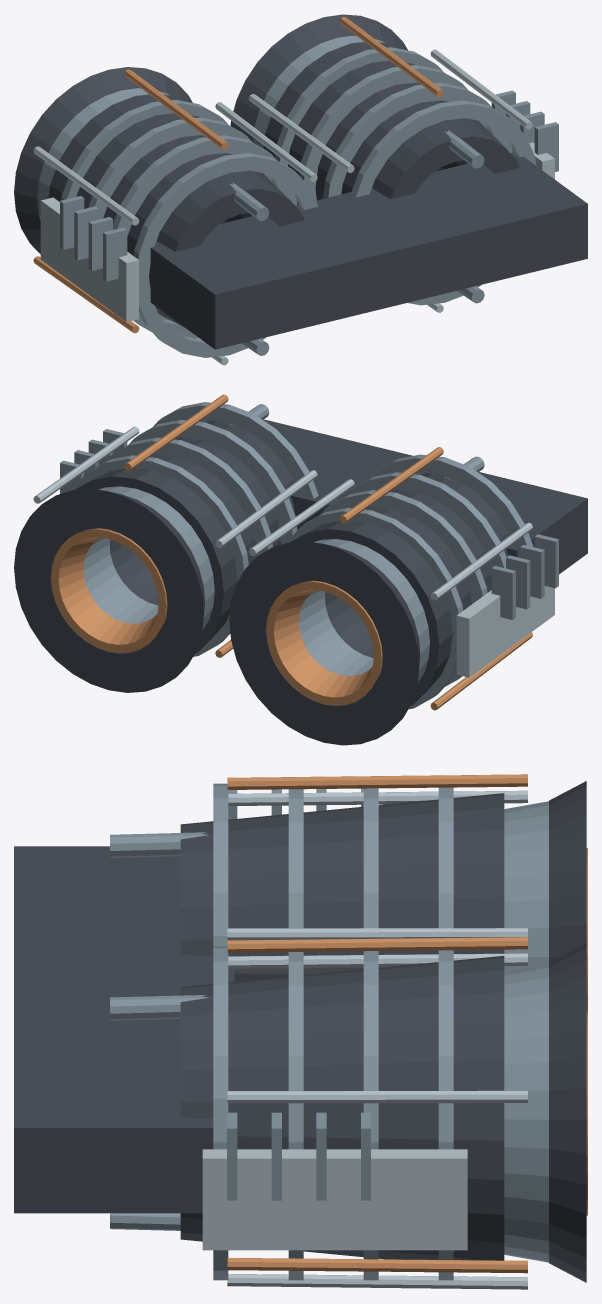
File: engine_titan_v2.glb
3 views of the same model, one above another, from view 1: azimuth 30°, elevation 25°; view 2: azimuth 150°, elevation 25°; view 3: azimuth 270°, elevation 25° (orthographic). The views are drawn at different scales.
Visible parts, largest first — view 1: ENGINE_MODULAR_CASSETTE_CRADLE, ENGINE_1_STRUCTURAL_CHAMBER, ENGINE_-1_STRUCTURAL_CHAMBER, ENGINE_-1_SERVICE_COLLAR_0, ENGINE_-1_RECESSED_BELL, ENGINE_1_SERVICE_COLLAR_0, ENGINE_1_RECESSED_BELL, ENGINE_-1_SPLIT_SIDE_ARMOR, ENGINE_1_SERVICE_COLLAR_1, ENGINE_-1_SERVICE_COLLAR_1, ENGINE_1_SERVICE_COLLAR_2, ENGINE_-1_SERVICE_COLLAR_2 (+18 smaller); view 2: ENGINE_1_RECESSED_BELL, ENGINE_-1_RECESSED_BELL, ENGINE_1_STRUCTURAL_CHAMBER, ENGINE_-1_STRUCTURAL_CHAMBER, ENGINE_MODULAR_CASSETTE_CRADLE, ENGINE_1_HEATED_INNER_LIP, ENGINE_-1_HEATED_INNER_LIP, ENGINE_1_THROAT, ENGINE_-1_THROAT, ENGINE_-1_SPLIT_SIDE_ARMOR, ENGINE_-1_SERVICE_COLLAR_3, ENGINE_1_SERVICE_COLLAR_1 (+17 smaller); view 3: ENGINE_MODULAR_CASSETTE_CRADLE, ENGINE_1_STRUCTURAL_CHAMBER, ENGINE_-1_STRUCTURAL_CHAMBER, ENGINE_1_SPLIT_SIDE_ARMOR, ENGINE_1_THROAT, ENGINE_1_RECESSED_BELL, ENGINE_-1_THROAT, ENGINE_-1_RECESSED_BELL, ENGINE_1_EXTERNAL_HEAT_CHANNEL_5, ENGINE_1_EXTERNAL_HEAT_CHANNEL_1, ENGINE_-1_EXTERNAL_HEAT_CHANNEL_1, ENGINE_1_EXTERNAL_HEAT_CHANNEL_0 (+19 smaller).
Boxes of the visible parts, x1,y1,x2,y2 form: ENGINE_MODULAR_CASSETTE_CRADLE: (149,152,587,349); ENGINE_1_STRUCTURAL_CHAMBER: (263,42,519,204); ENGINE_-1_STRUCTURAL_CHAMBER: (48,94,304,327); ENGINE_-1_SERVICE_COLLAR_0: (133,153,318,357); ENGINE_-1_RECESSED_BELL: (14,67,192,253); ENGINE_1_SERVICE_COLLAR_0: (351,100,536,305); ENGINE_1_RECESSED_BELL: (230,14,407,141); ENGINE_-1_SPLIT_SIDE_ARMOR: (40,197,138,321); ENGINE_1_SERVICE_COLLAR_1: (323,83,512,198); ENGINE_-1_SERVICE_COLLAR_1: (113,135,297,338); ENGINE_1_SERVICE_COLLAR_2: (299,65,487,200); ENGINE_-1_SERVICE_COLLAR_2: (88,117,272,320); ENGINE_1_RECESSED_BELL: (14,489,204,692); ENGINE_-1_RECESSED_BELL: (229,541,420,745); ENGINE_1_STRUCTURAL_CHAMBER: (75,420,295,653); ENGINE_-1_STRUCTURAL_CHAMBER: (290,473,509,706); ENGINE_MODULAR_CASSETTE_CRADLE: (200,419,587,574); ENGINE_1_HEATED_INNER_LIP: (51,528,167,652); ENGINE_-1_HEATED_INNER_LIP: (266,580,382,705); ENGINE_1_THROAT: (83,486,214,631); ENGINE_-1_THROAT: (299,539,429,683); ENGINE_-1_SPLIT_SIDE_ARMOR: (456,586,554,677); ENGINE_-1_SERVICE_COLLAR_3: (286,508,463,709); ENGINE_1_SERVICE_COLLAR_1: (128,420,297,544); ENGINE_MODULAR_CASSETTE_CRADLE: (14,846,234,1213); ENGINE_1_STRUCTURAL_CHAMBER: (180,955,504,1260); ENGINE_-1_STRUCTURAL_CHAMBER: (180,793,504,981); ENGINE_1_SPLIT_SIDE_ARMOR: (202,1149,467,1250); ENGINE_1_THROAT: (504,964,548,1262); ENGINE_1_RECESSED_BELL: (549,943,586,1282); ENGINE_-1_THROAT: (504,801,548,971); ENGINE_-1_RECESSED_BELL: (549,781,586,962); ENGINE_1_EXTERNAL_HEAT_CHANNEL_5: (227,1257,527,1273); ENGINE_1_EXTERNAL_HEAT_CHANNEL_1: (227,937,527,952); ENGINE_-1_EXTERNAL_HEAT_CHANNEL_1: (227,774,527,789); ENGINE_1_EXTERNAL_HEAT_CHANNEL_0: (227,1090,527,1103).
Size of the model in its own units: 1.72 by 0.8277 by 1.22.
